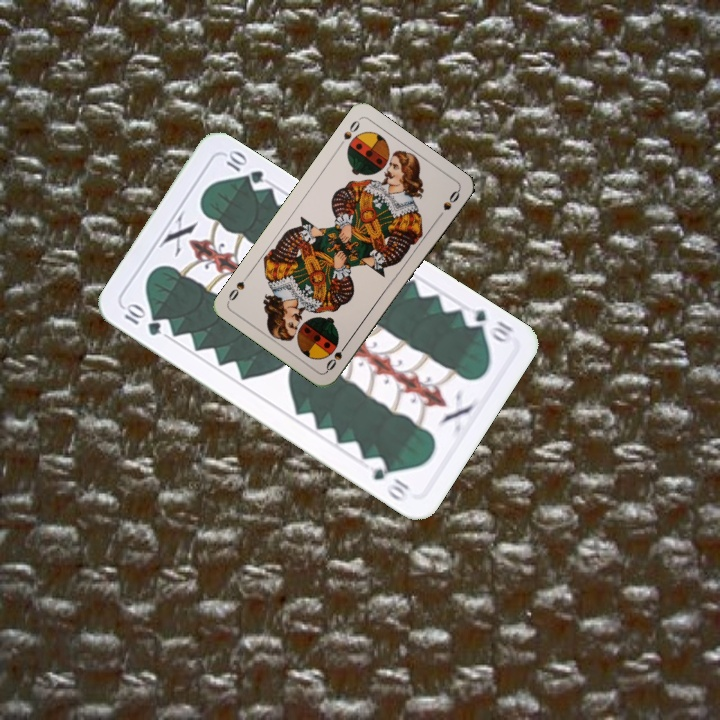G10: (458, 302, 516, 347), (120, 300, 164, 339)
SO: (322, 338, 351, 374), (334, 116, 363, 151)
